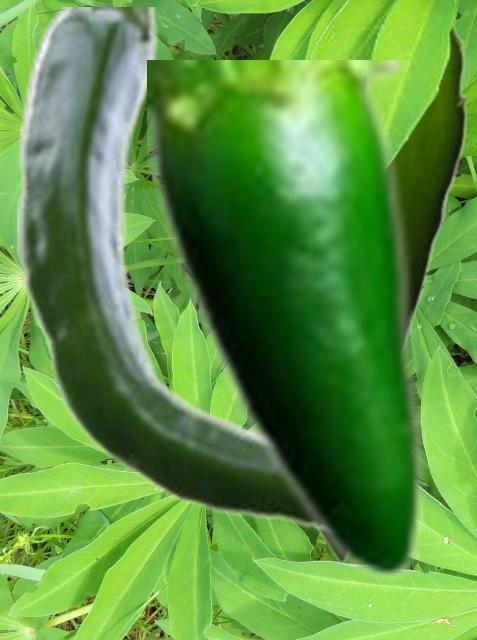green_chili: (17, 7, 315, 535), (147, 60, 426, 582), (324, 20, 465, 561)
